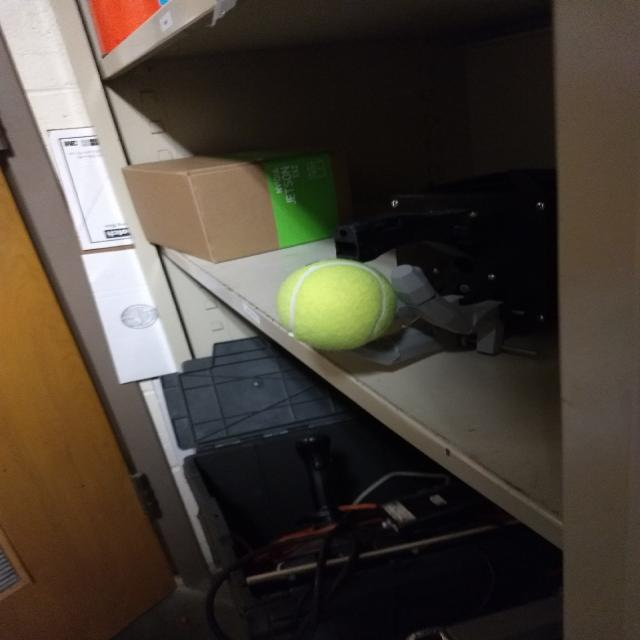Tennis-Ball: (276, 258, 398, 352)
